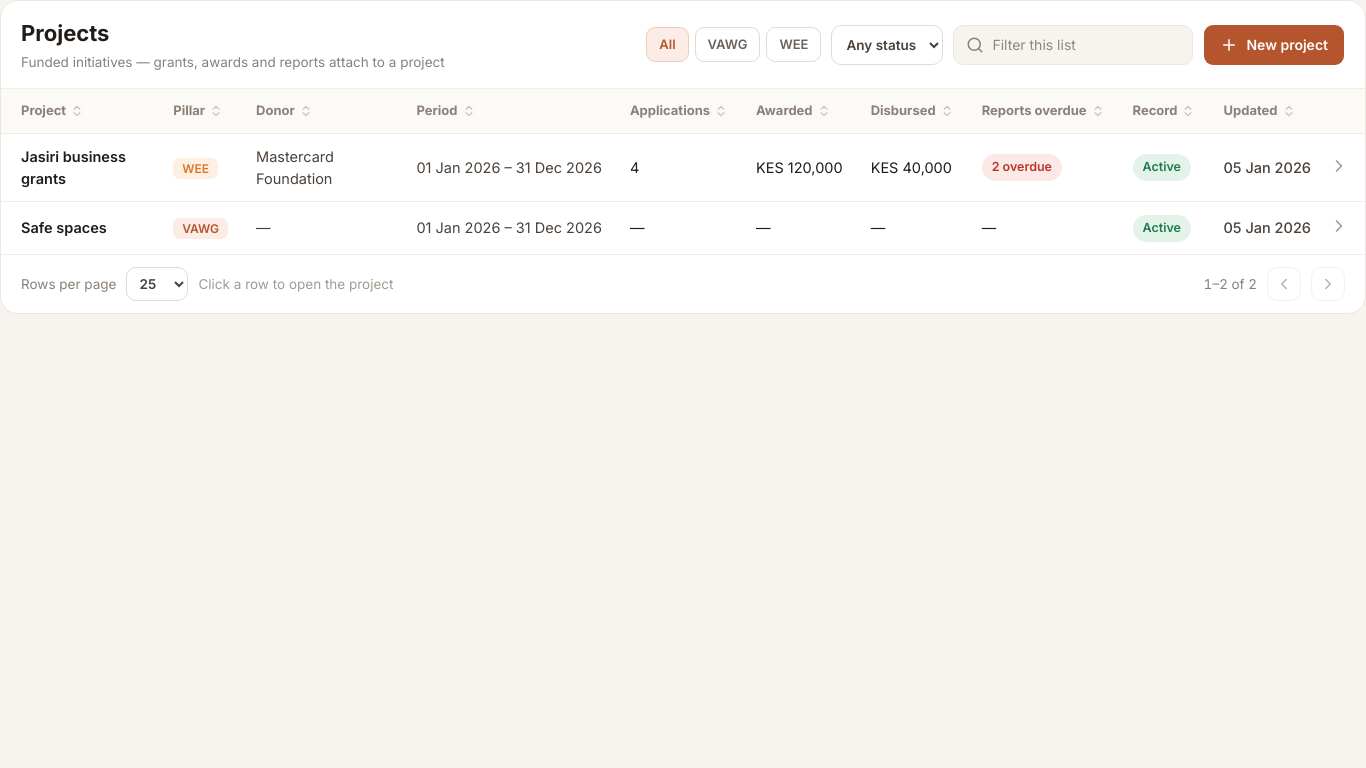
Test: projects register › opens a project with its applications and reporting periods, loaded on demand
The width and height of the screenshot is (1366, 768).
What coordinates should you click on to do the following:
click the text "Jasiri business grants"
I would click on:
 (73, 156)
Its box is [21,148,126,187].
(page scrolled)
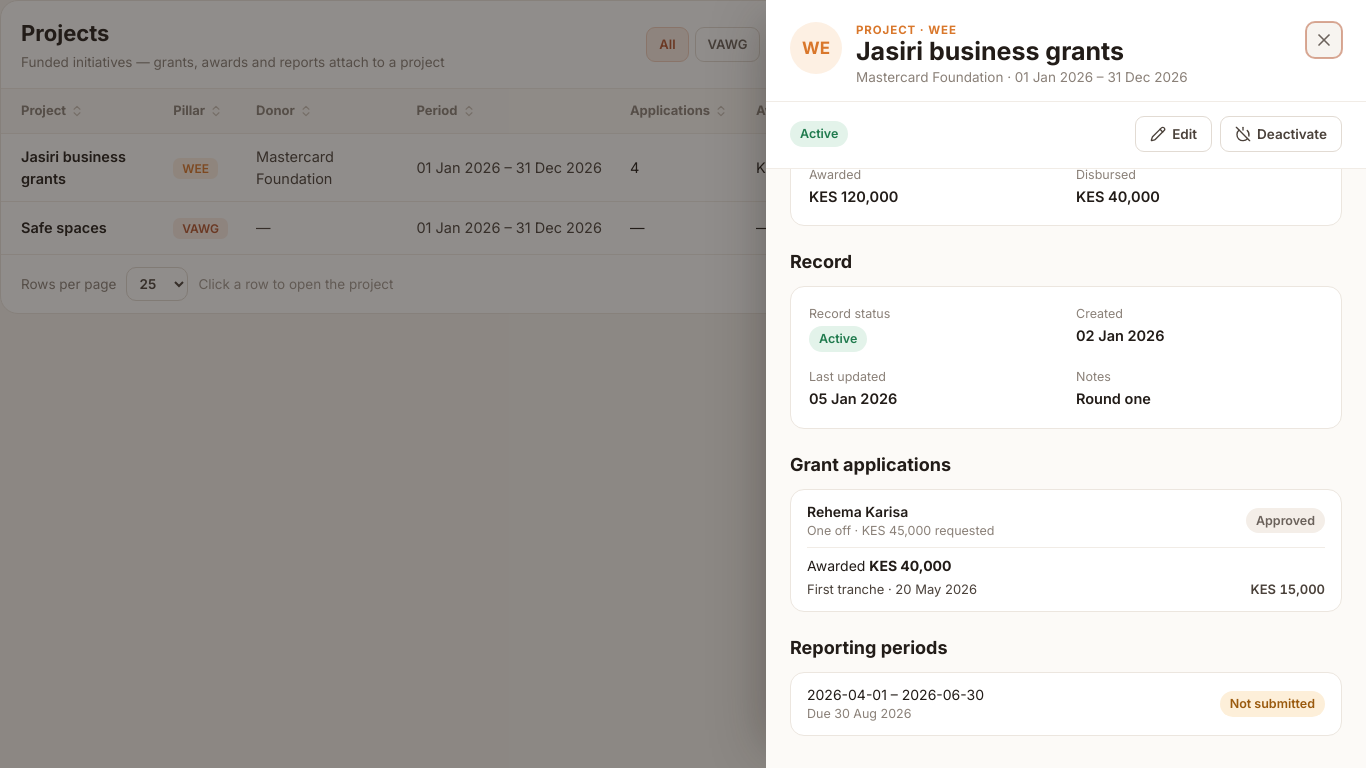
Check: the dialog "Jasiri business grants" shows "Project · WEE", box [856,23,957,37]
Check: the element "Record" shows "Round one", box [1076,390,1151,407]
Check: the element "Reporting periods" shows "Not submitted", box [1230,696,1315,711]
